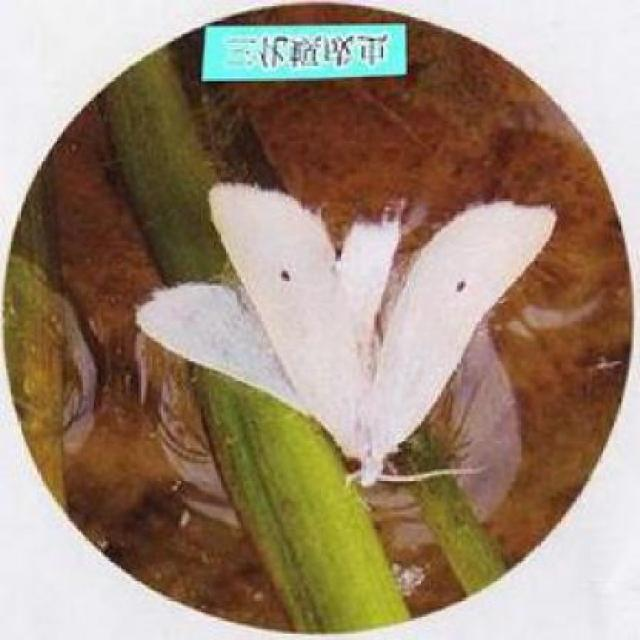stem-borer: (132, 181, 556, 490)
